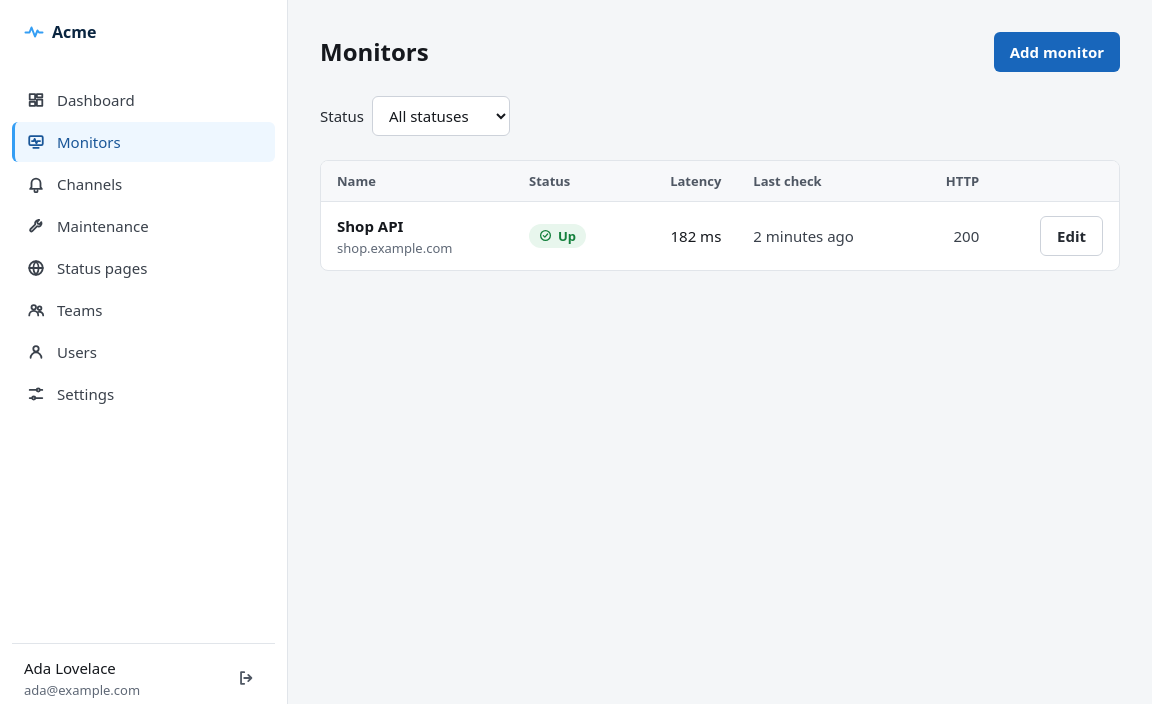
Test case: MonitorFormPage › offers the intervals from the API configuration
Click the button "Add monitor". click: (1057,52)
box: top-left (994, 32), bottom-right (1120, 72)
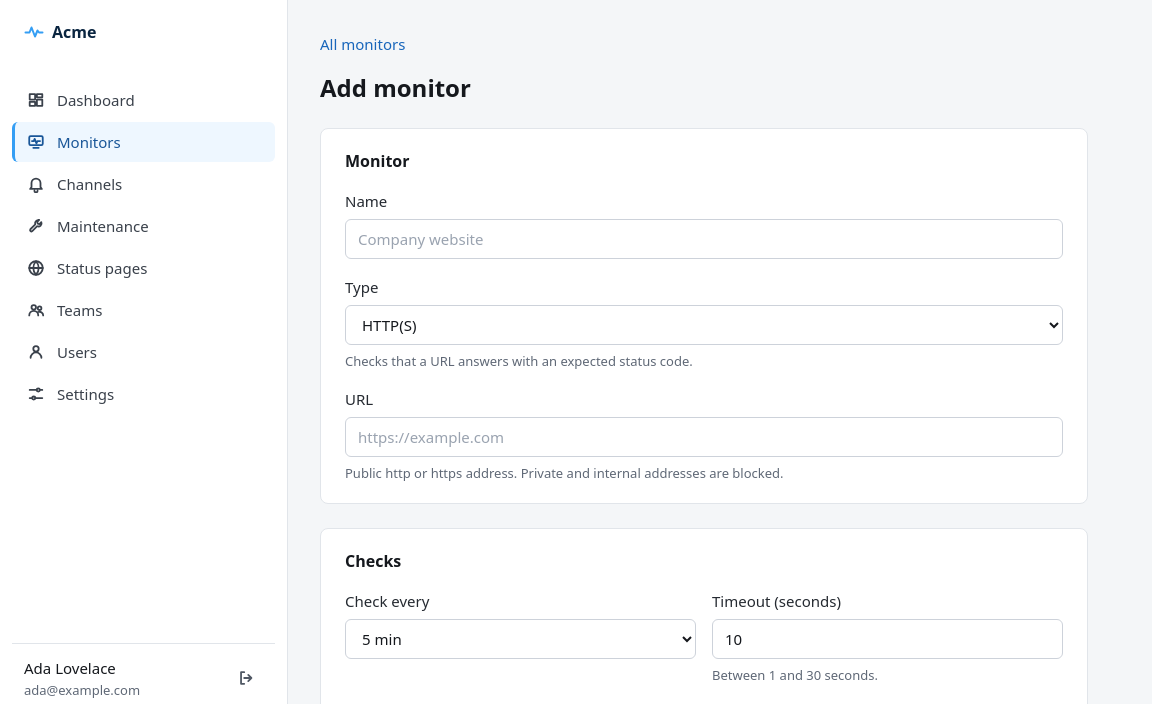
Expected: the dropdown labelled "Check every" shows "5 min", top-left (345, 619), bottom-right (696, 659)
